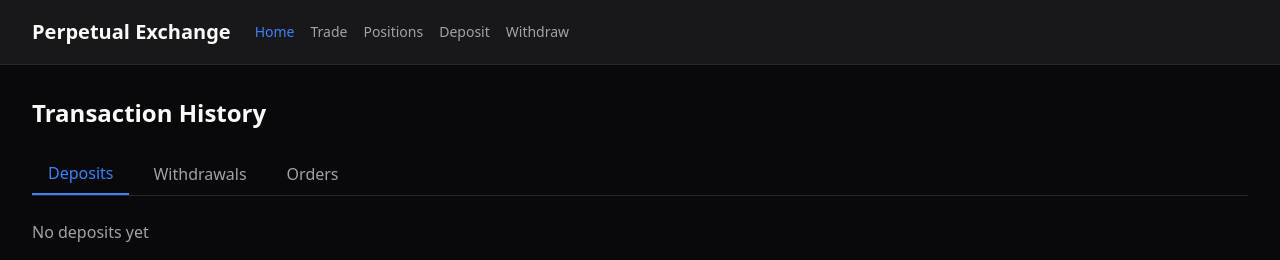
Test: TransactionsPage › should display empty state when no withdrawals
The image size is (1280, 260).
Click the button "Withdrawals" at (200, 174), box [138,153,263,195]
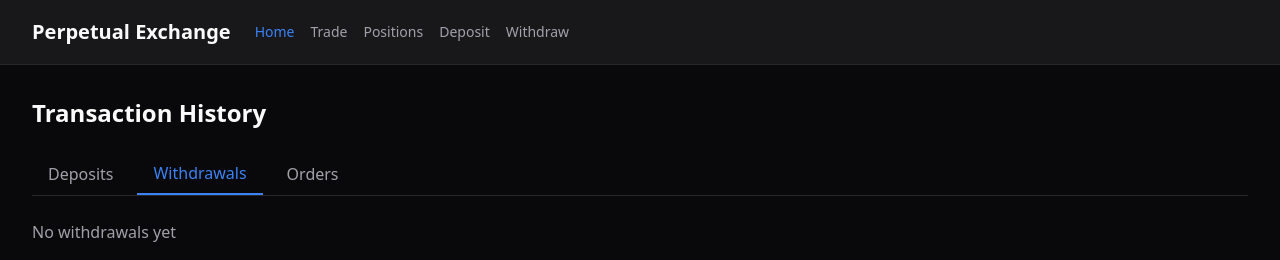
Check: the text "No withdrawals yet" is shown, box [32,221,176,243]
